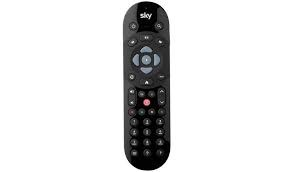remote control: (122, 7, 174, 166)
